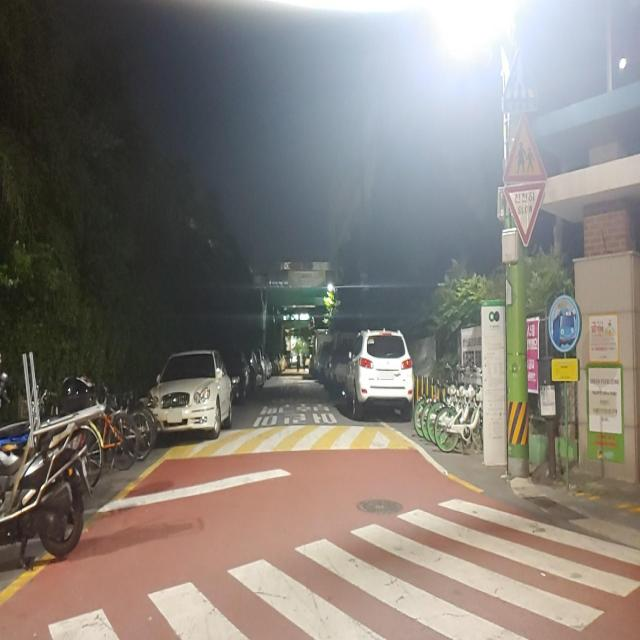횡단보도: (46, 493, 640, 640)
